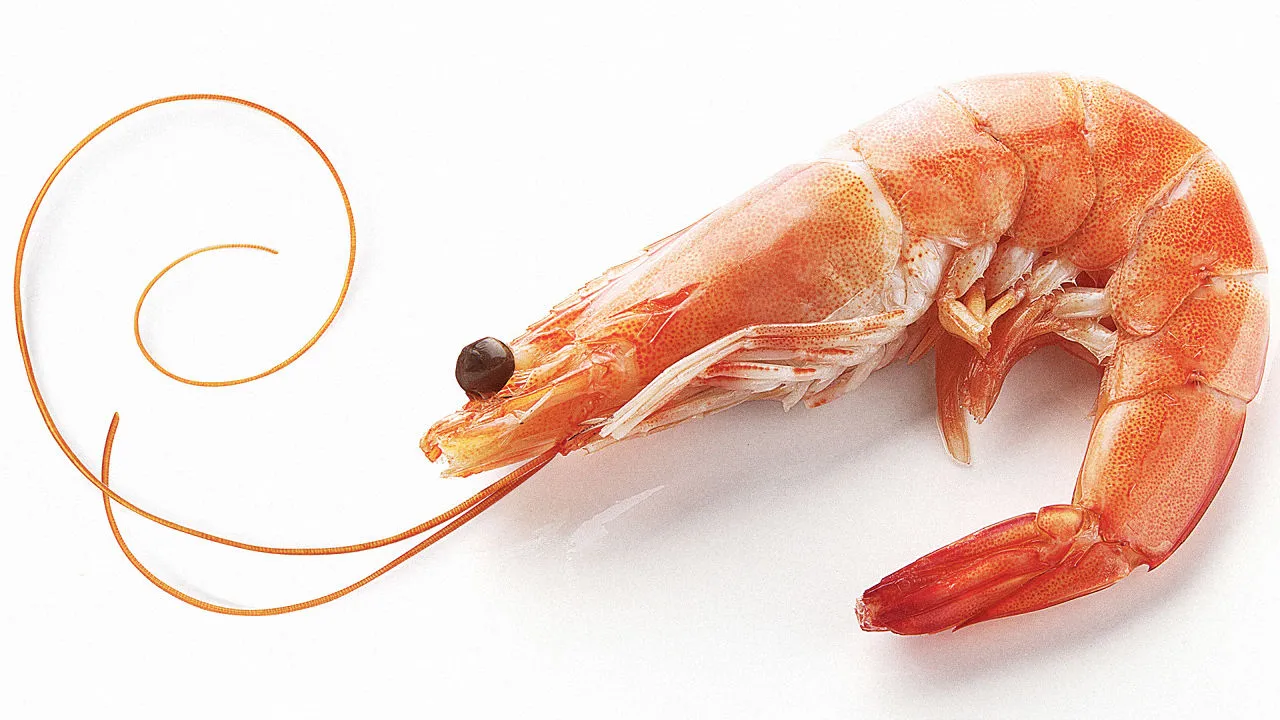food_waste: (341, 339, 1107, 720)
